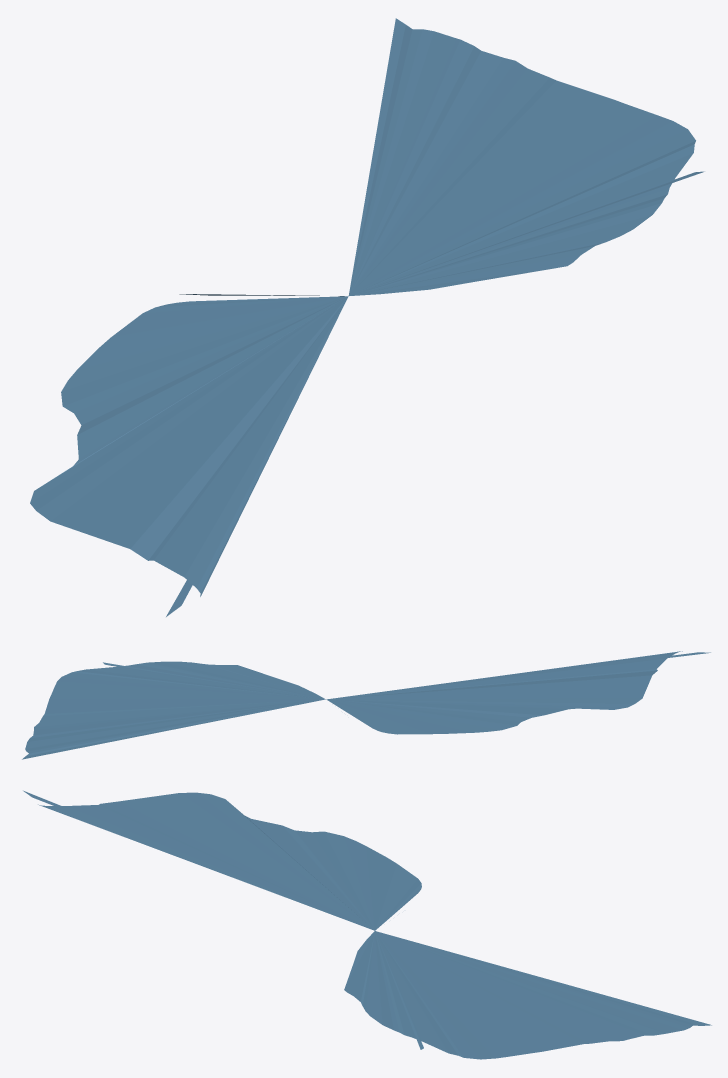
Rendered from c_1629_17830_water.glb.
3 views of the same model, one above another, from view 1: azimuth 30°, elevation 25°; view 2: azimuth 150°, elevation 25°; view 3: azimuth 270°, elevation 25° (orthographic). The views are drawn at different scales.
Visible parts, largest first — view 1: geometry_0; view 2: geometry_0; view 3: geometry_0.
Part boxes in pixels (left/top/right/bottom): geometry_0: left=30, top=18, right=704, bottom=616; geometry_0: left=22, top=651, right=710, bottom=759; geometry_0: left=23, top=790, right=711, bottom=1059.
Bounding box in the file's own units: 1272 × 8.63 × 1357.
